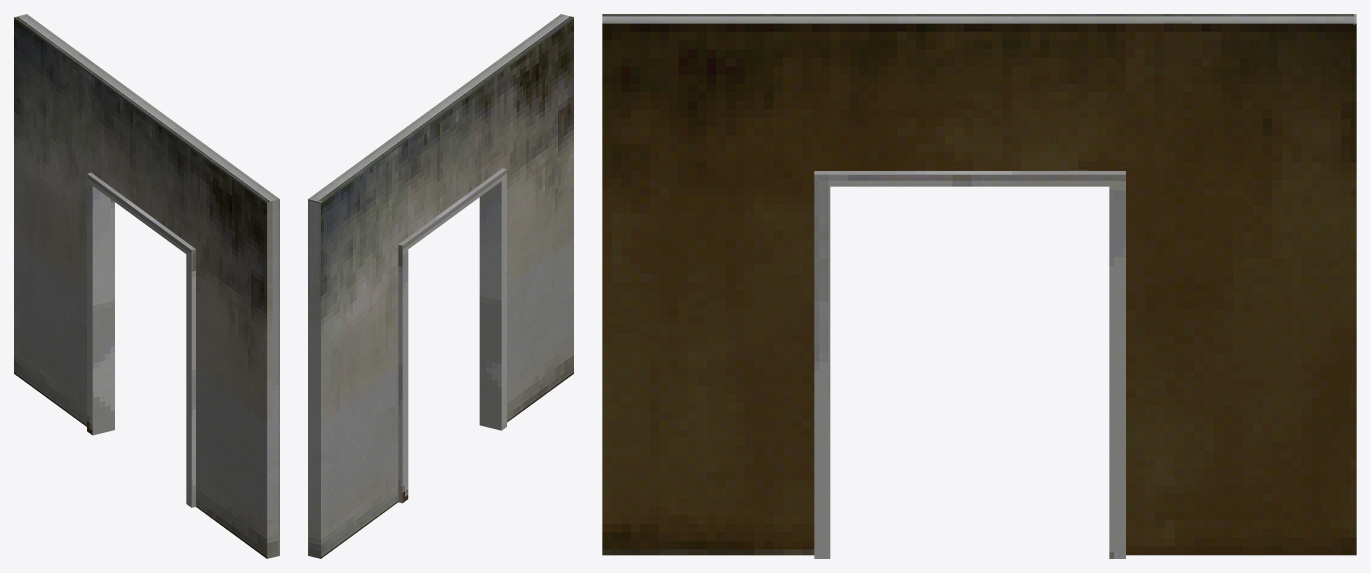
Rendered from SM_OfficeRoom_Doorway.fbx.
The picture shows the model from 3 angles, left to right: view 1: azimuth 30°, elevation 25°; view 2: azimuth 150°, elevation 25°; view 3: azimuth 270°, elevation 25°; orthographic projection. The views are drawn at different scales.
Parts seen in each view (by area): view 1: SM_OfficeRoom_Doorway; view 2: SM_OfficeRoom_Doorway; view 3: SM_OfficeRoom_Doorway.
Boxes of the visible parts, x1,y1,x2,y2 form: SM_OfficeRoom_Doorway: (14, 14, 279, 558); SM_OfficeRoom_Doorway: (308, 14, 573, 558); SM_OfficeRoom_Doorway: (602, 14, 1356, 558).
Size of the model in its own units: 19.51 by 300 by 386.
